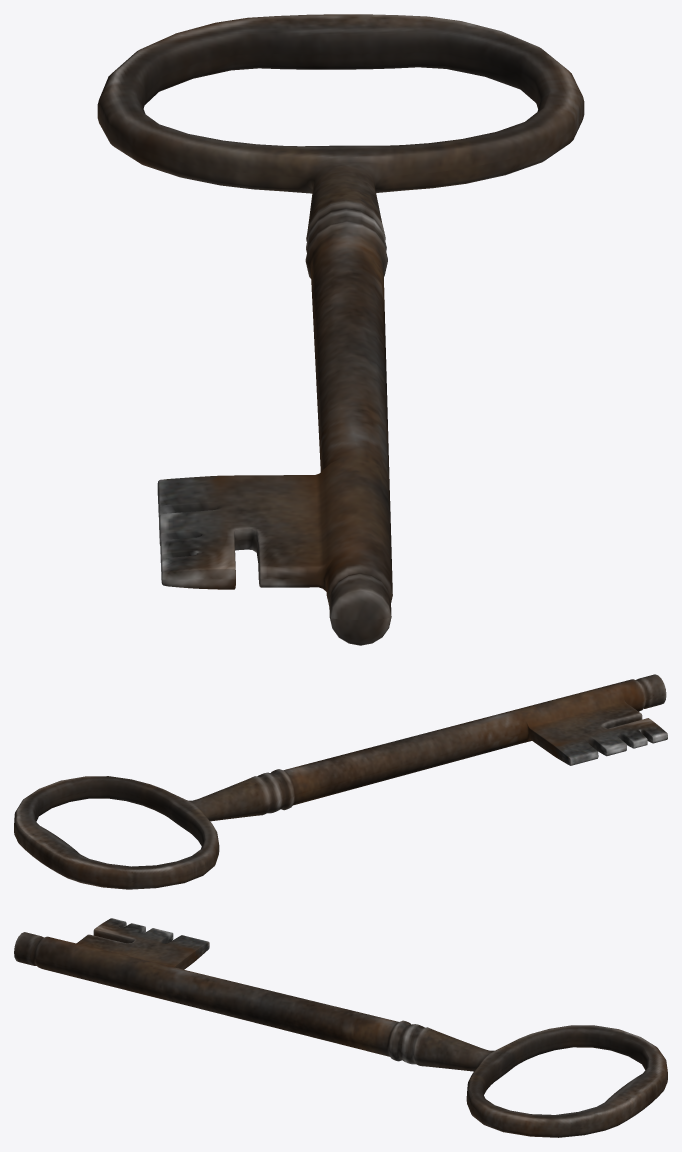
The model's file is key.glb.
3 views of the same model, one above another, from view 1: azimuth 30°, elevation 25°; view 2: azimuth 150°, elevation 25°; view 3: azimuth 270°, elevation 25° (orthographic). The views are drawn at different scales.
Parts seen in each view (by area): view 1: Mesh_0; view 2: Mesh_0; view 3: Mesh_0.
Boxes of the visible parts, bbox=[...] form: Mesh_0: bbox=[97, 14, 584, 645]; Mesh_0: bbox=[14, 674, 667, 889]; Mesh_0: bbox=[14, 918, 667, 1137].
Bounding box in the file's own units: 11.89 × 1.04 × 16.23.
Materials: 1 (1 with a texture image).
